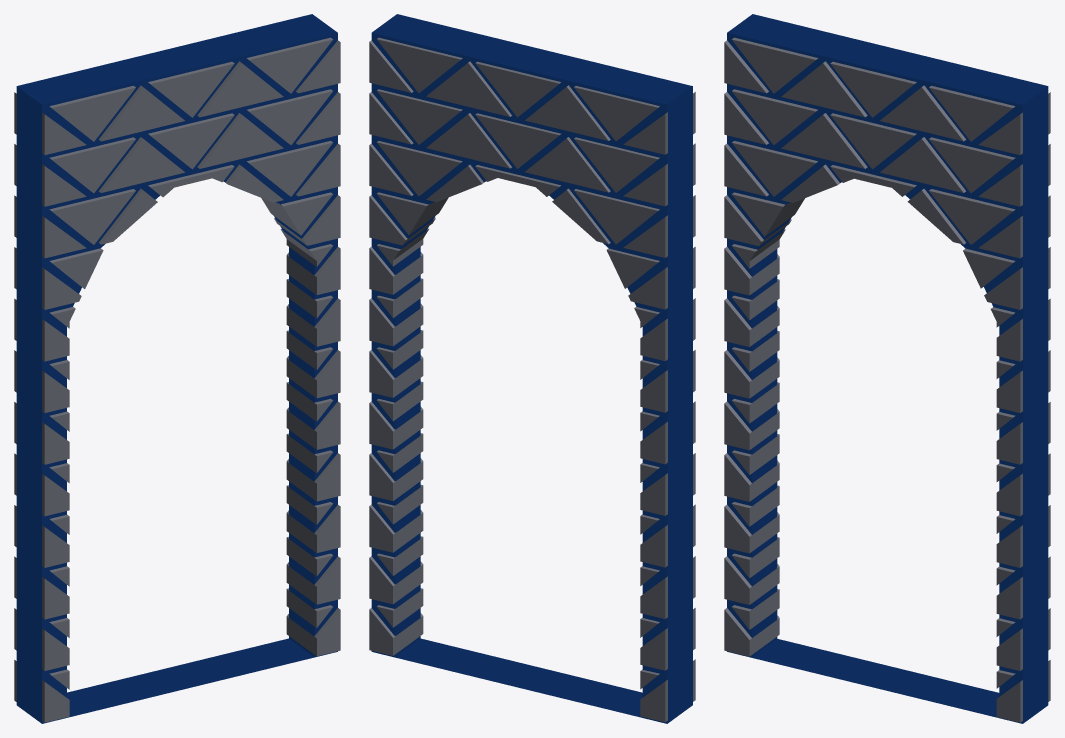
Rendered from FuturisticDoorframe.glb.
3 views of the same model, side by side, from view 1: azimuth 30°, elevation 25°; view 2: azimuth 150°, elevation 25°; view 3: azimuth 330°, elevation 25° (orthographic).
Parts seen in each view (by area): view 1: wall_futuristic_door; view 2: wall_futuristic_door; view 3: wall_futuristic_door.
Boxes of the visible parts, box(x1,y1,x2,y2) form: wall_futuristic_door: box(14, 14, 340, 723); wall_futuristic_door: box(369, 14, 695, 723); wall_futuristic_door: box(724, 14, 1050, 723).
Size of what is drawn, in the model's own units: 2 by 4 by 0.3542.
2 materials, 2 textured.
